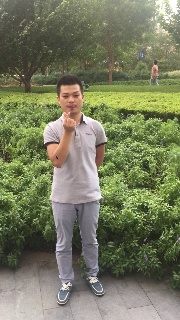hand: (62, 110, 75, 133)
